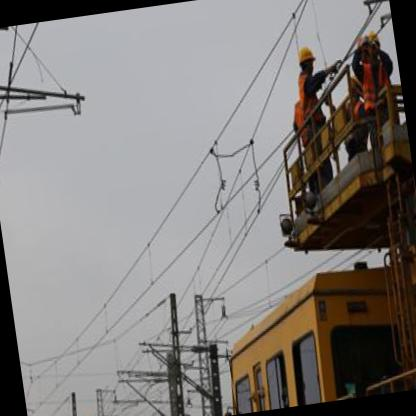helmet: (295, 42, 320, 81)
